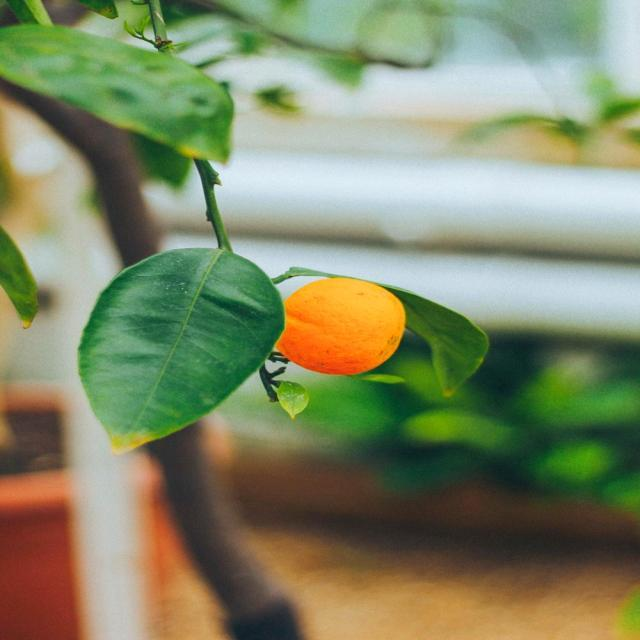Jeruk Sudah Matang: (280, 277, 414, 378)
